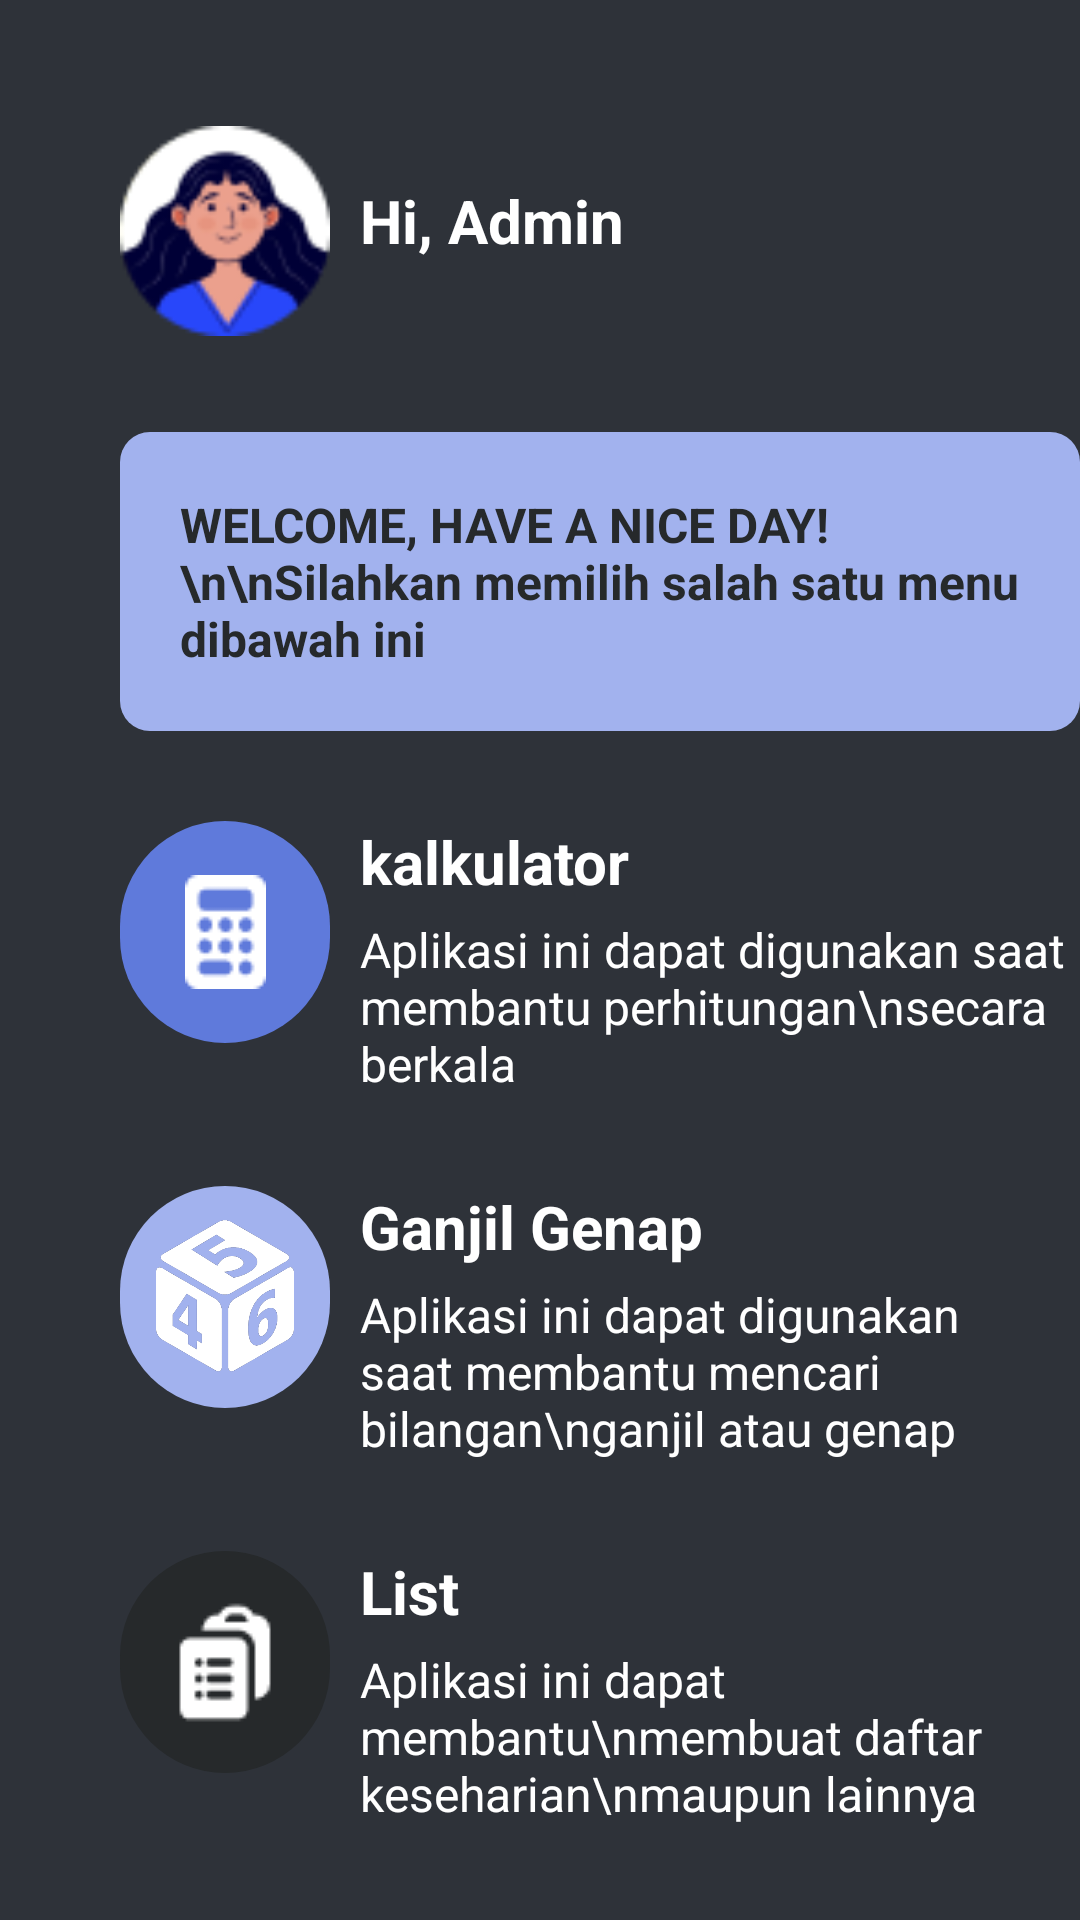

Icons on this 1080 × 1920 Android screen, each with the point to tap as (x=x, y=y):
profil: (x=225, y=231)
